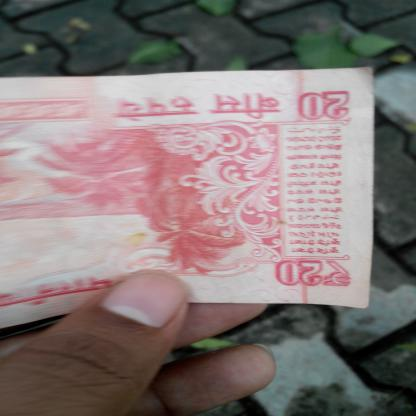Old20Back: (0, 67, 377, 329)
